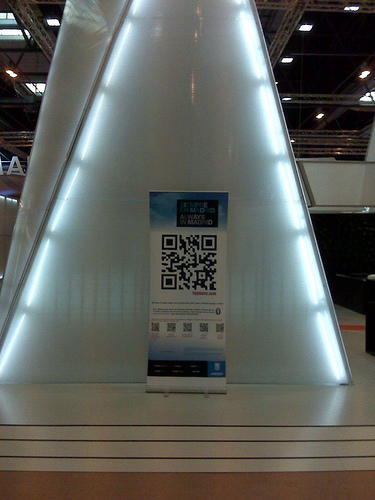QR-CODE: (161, 234, 216, 289), (216, 323, 224, 331), (152, 323, 159, 331), (168, 323, 175, 331), (200, 323, 207, 331), (185, 324, 192, 331)
